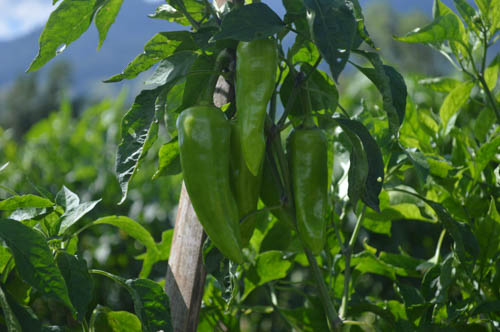ChiliPepper: (178, 107, 242, 260), (233, 38, 275, 176), (289, 126, 329, 254), (234, 130, 257, 244)
